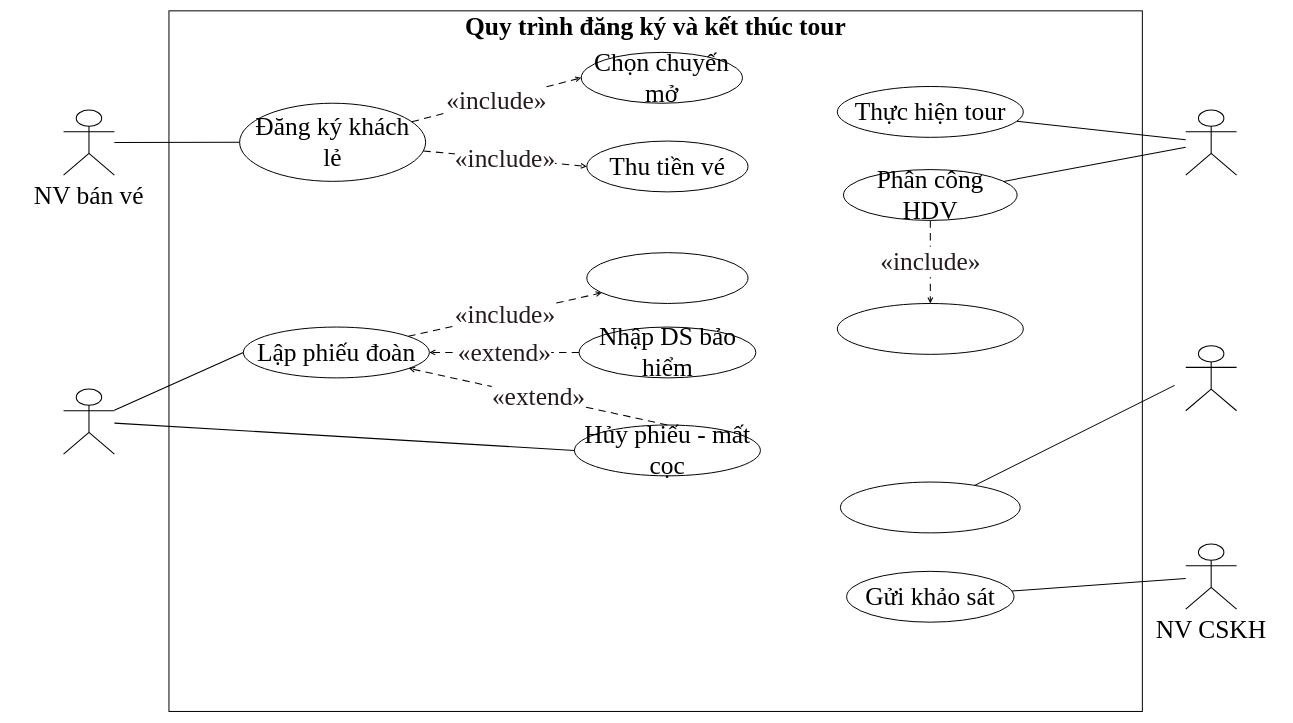
This 1293x723 diagram has some shape labels left out. Each missing label, with the centre of its shape:
Kiểm tra trùng lịch: the point at 930,329
Kế toán: the point at 1211,378
NV kinh doanh: the point at 89,421
NV điều hành: the point at 1211,142
Thanh toán đoàn: the point at 930,507
Đặt cọc: the point at 667,278
